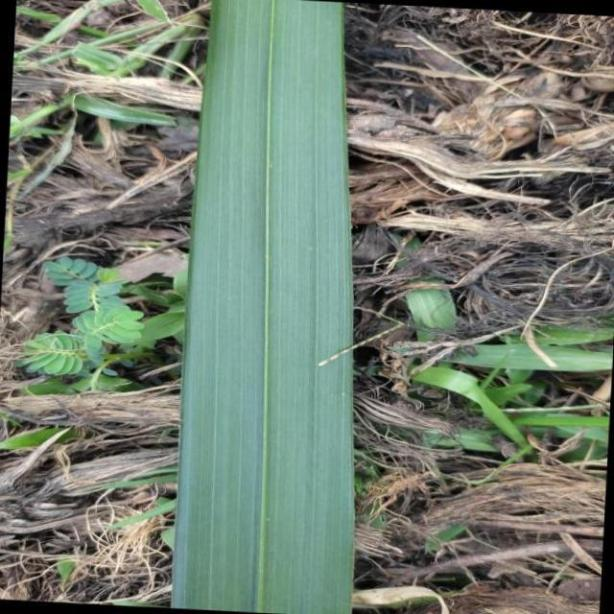Healthy: (179, 0, 357, 614)
